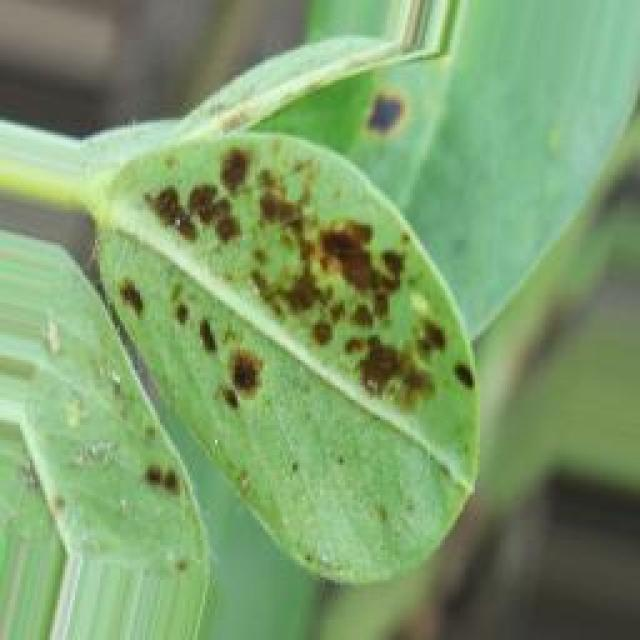Whitefly: (37, 51, 473, 620)
